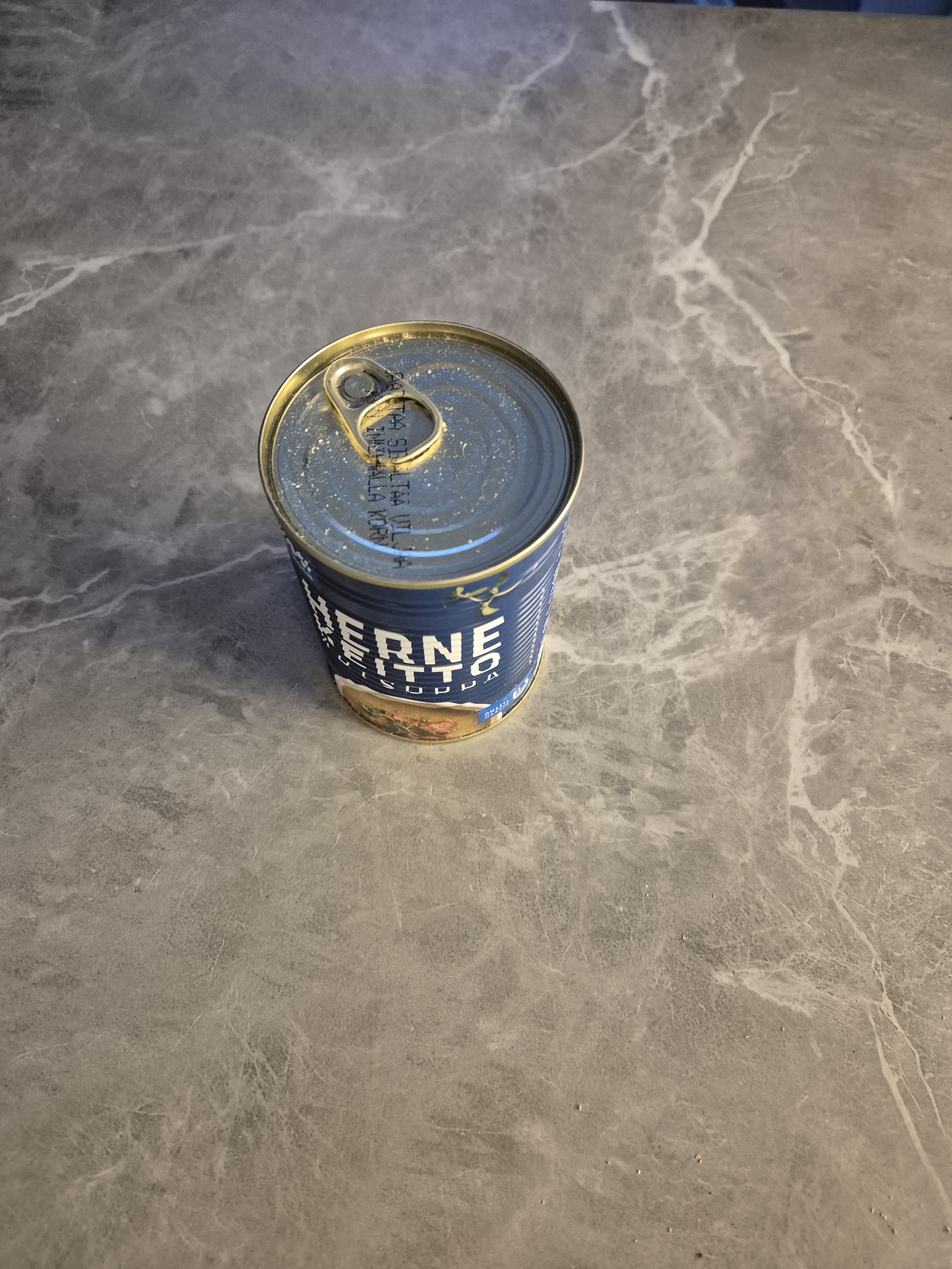Konservburk: (255, 319, 587, 747)
